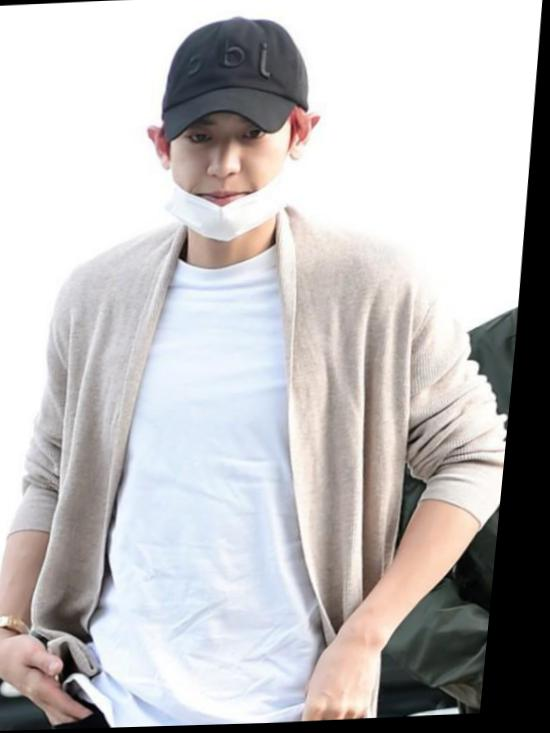WRONG: (167, 97, 297, 244)
